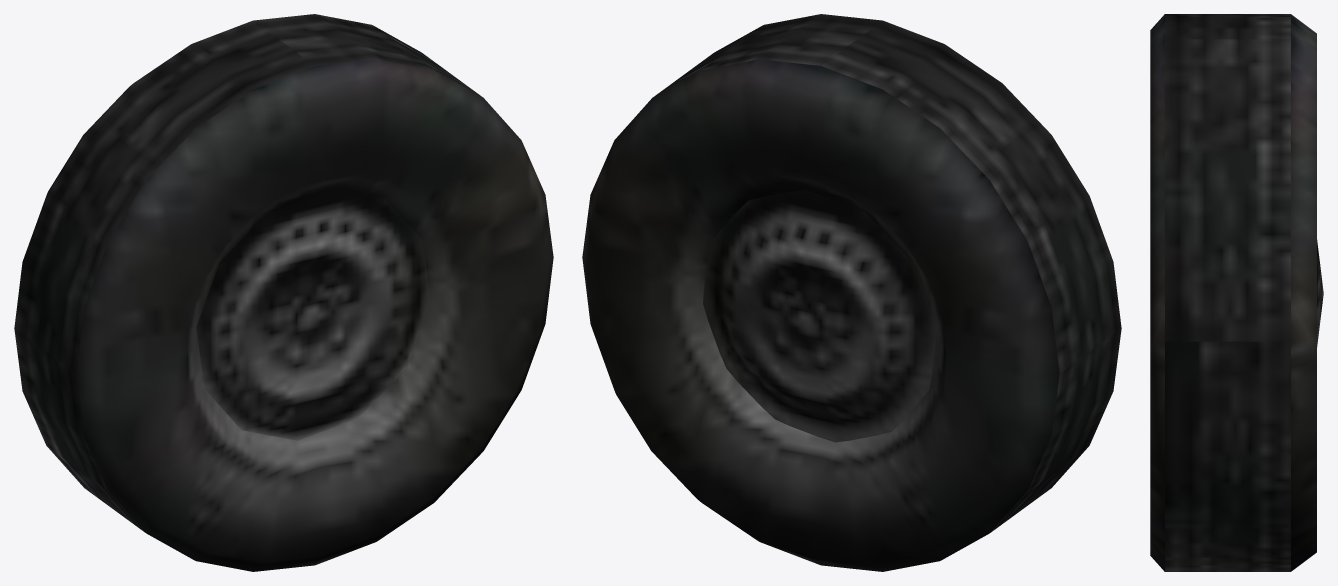
Rendered from carparts_wheel01a.glb.
The picture shows the model from 3 angles, left to right: view 1: azimuth 30°, elevation 25°; view 2: azimuth 150°, elevation 25°; view 3: azimuth 270°, elevation 25°; orthographic projection.
Visible parts, largest first — view 1: 0_truck001a_01; view 2: 0_truck001a_01; view 3: 0_truck001a_01.
Part boxes in pixels (x1,y1,x2,y2): 0_truck001a_01: (14,14,553,571); 0_truck001a_01: (582,14,1121,571); 0_truck001a_01: (1150,14,1323,571).
Size of the model in its own units: 0.8361 by 0.8361 by 0.2591.
1 material, 1 textured.
